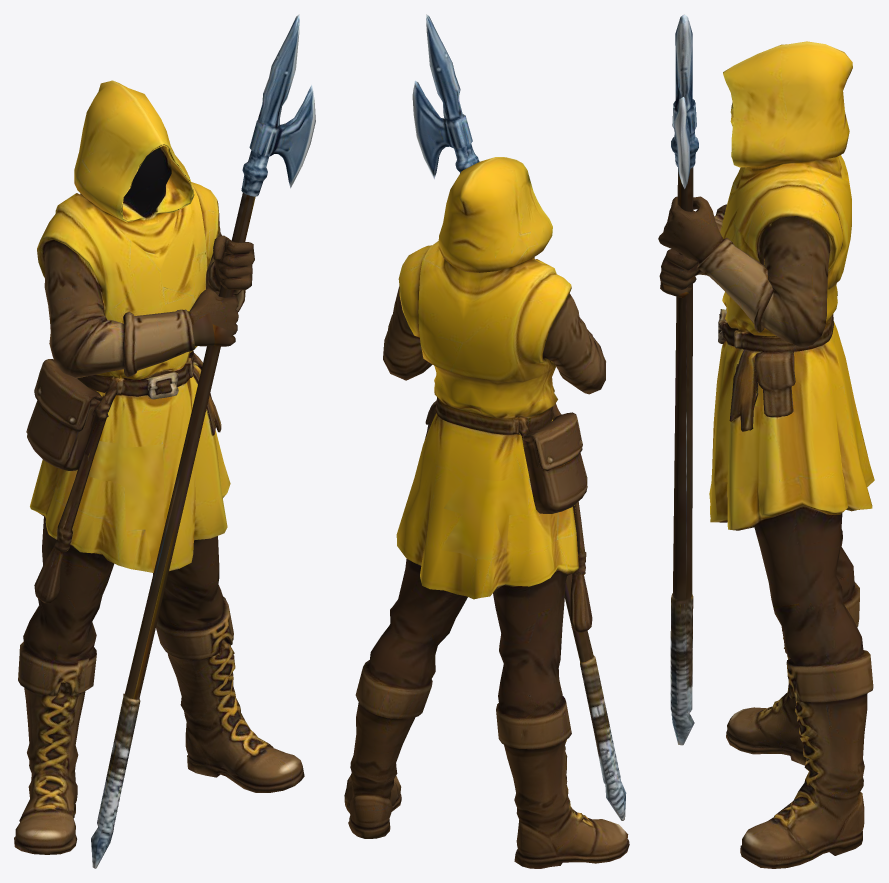
Rendered from fante.glb.
3 views of the same model, side by side, from view 1: azimuth 30°, elevation 25°; view 2: azimuth 150°, elevation 25°; view 3: azimuth 270°, elevation 25° (orthographic). The views are drawn at different scales.
Bounding box in the file's own units: 0.3555 × 0.9512 × 0.2231.
Materials: 1 (1 with a texture image).
